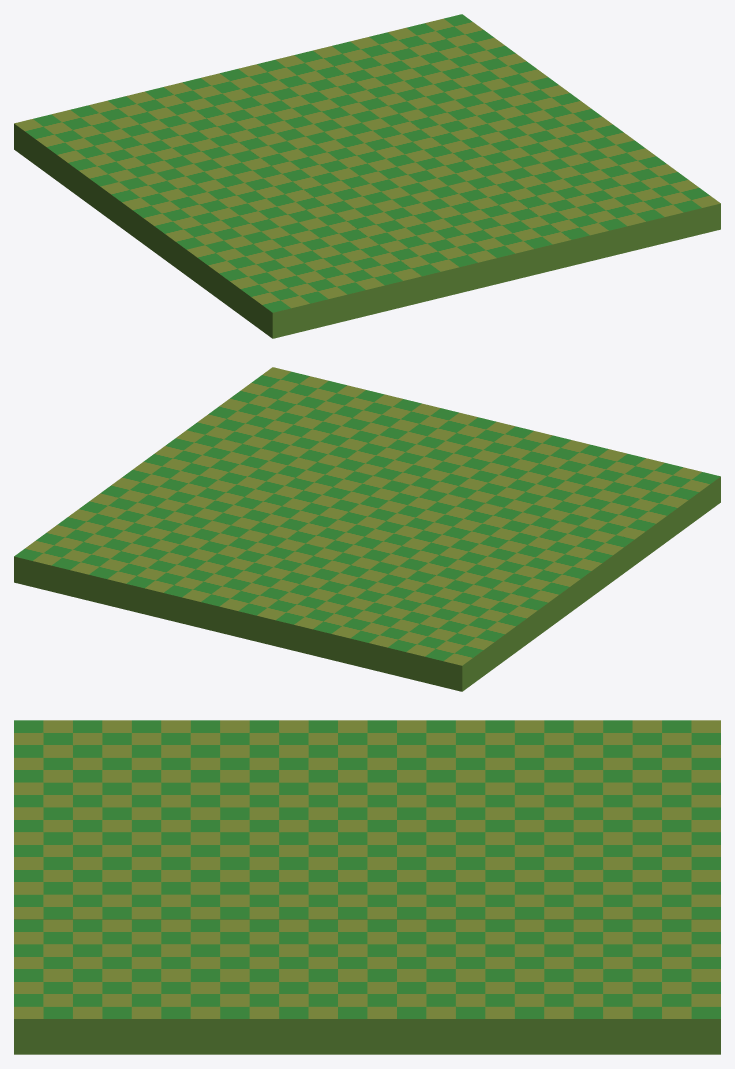
The model's file is essaiLevel.glb.
The picture shows the model from 3 angles, top to bottom: view 1: azimuth 30°, elevation 25°; view 2: azimuth 150°, elevation 25°; view 3: azimuth 270°, elevation 25°; orthographic projection. The views are drawn at different scales.
Parts seen in each view (by area): view 1: Plane.010; view 2: Plane.010; view 3: Plane.010.
Boxes of the visible parts, x1=… form: Plane.010: x1=14, y1=14, x2=720, y2=338; Plane.010: x1=14, y1=367, x2=720, y2=691; Plane.010: x1=14, y1=720, x2=720, y2=1054.
Bounding box in the file's own units: 18 × 1 × 18.
1 material, 1 textured.
